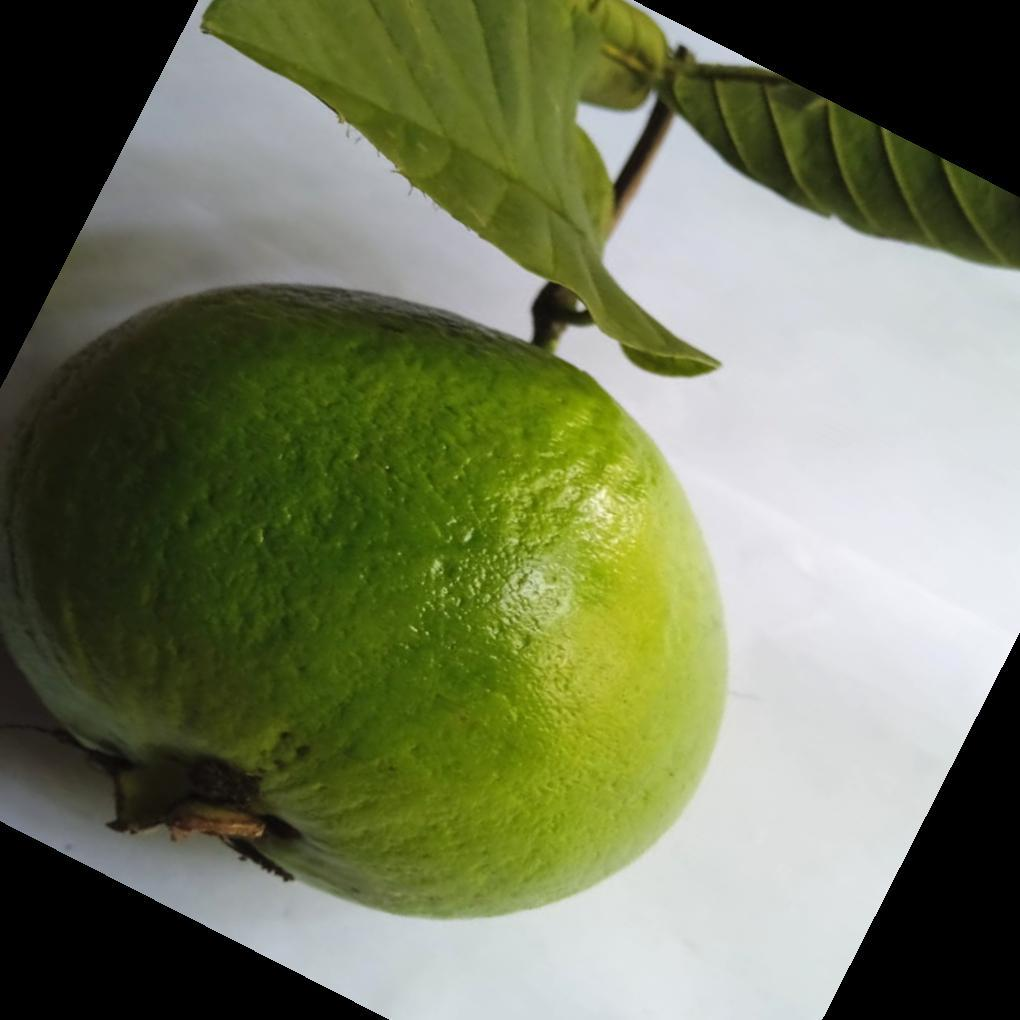FreshGuava: (0, 285, 731, 924)
